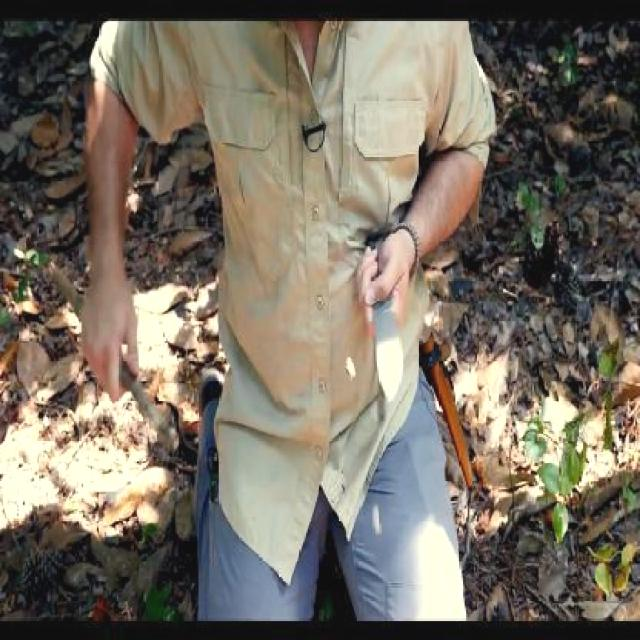knife: (357, 240, 411, 411)
